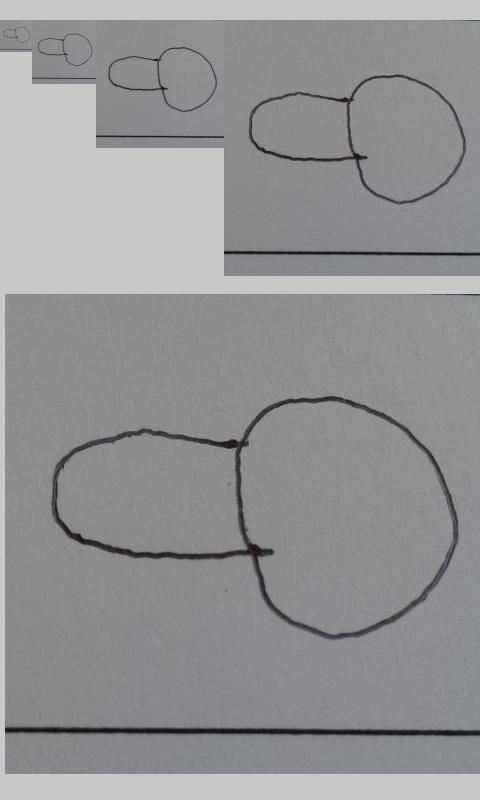switch: (52, 396, 459, 642), (248, 74, 468, 205), (107, 46, 218, 113), (37, 33, 93, 66), (2, 26, 32, 44)
